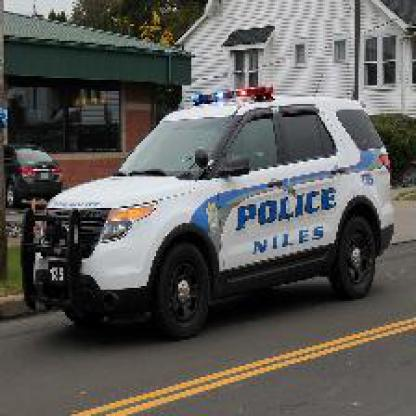emergency: (22, 85, 409, 338)
